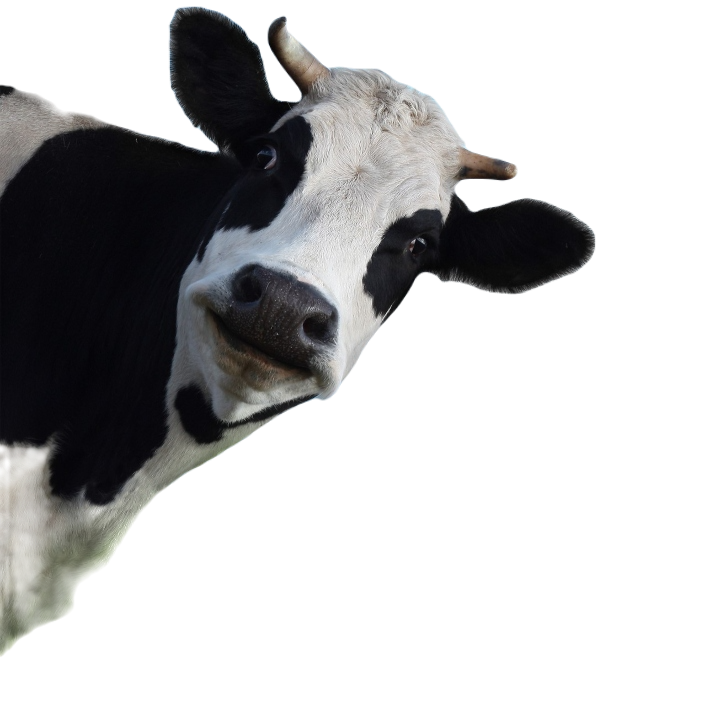Cow: (0, 9, 596, 645)
